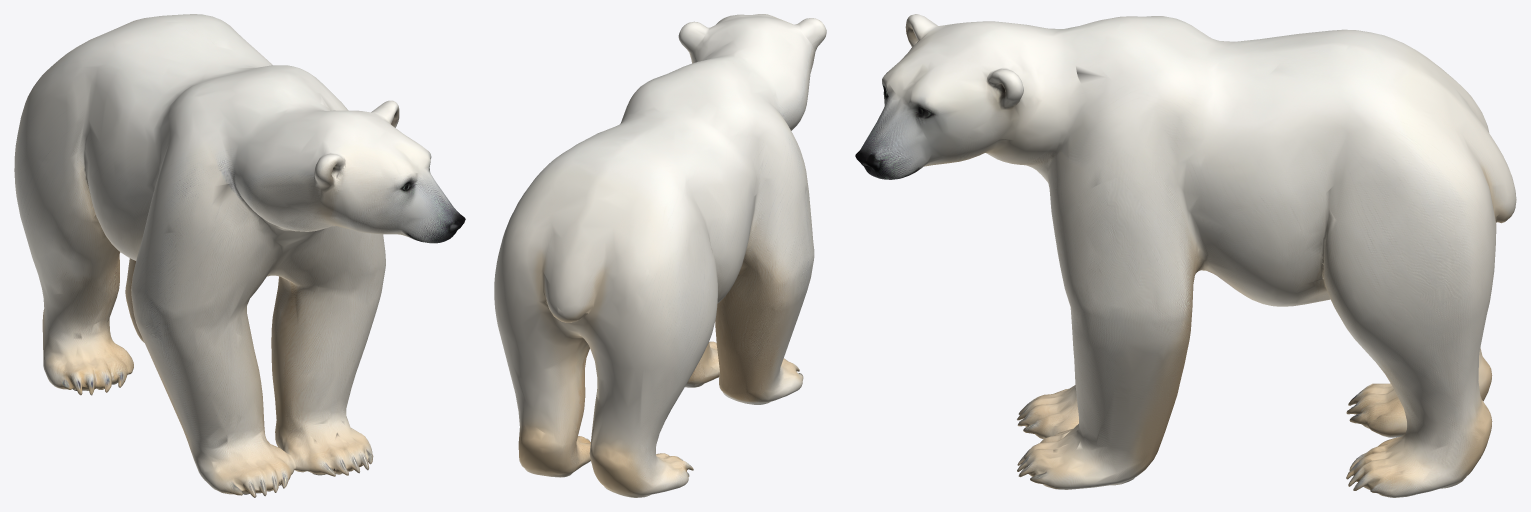
The model's file is polar_bear_mother.glb.
3 views of the same model, side by side, from view 1: azimuth 30°, elevation 25°; view 2: azimuth 150°, elevation 25°; view 3: azimuth 270°, elevation 25° (orthographic). The views are drawn at different scales.
Bounding box in the file's own units: 0.858 × 1.37 × 1.9.
1 material, 1 textured.
